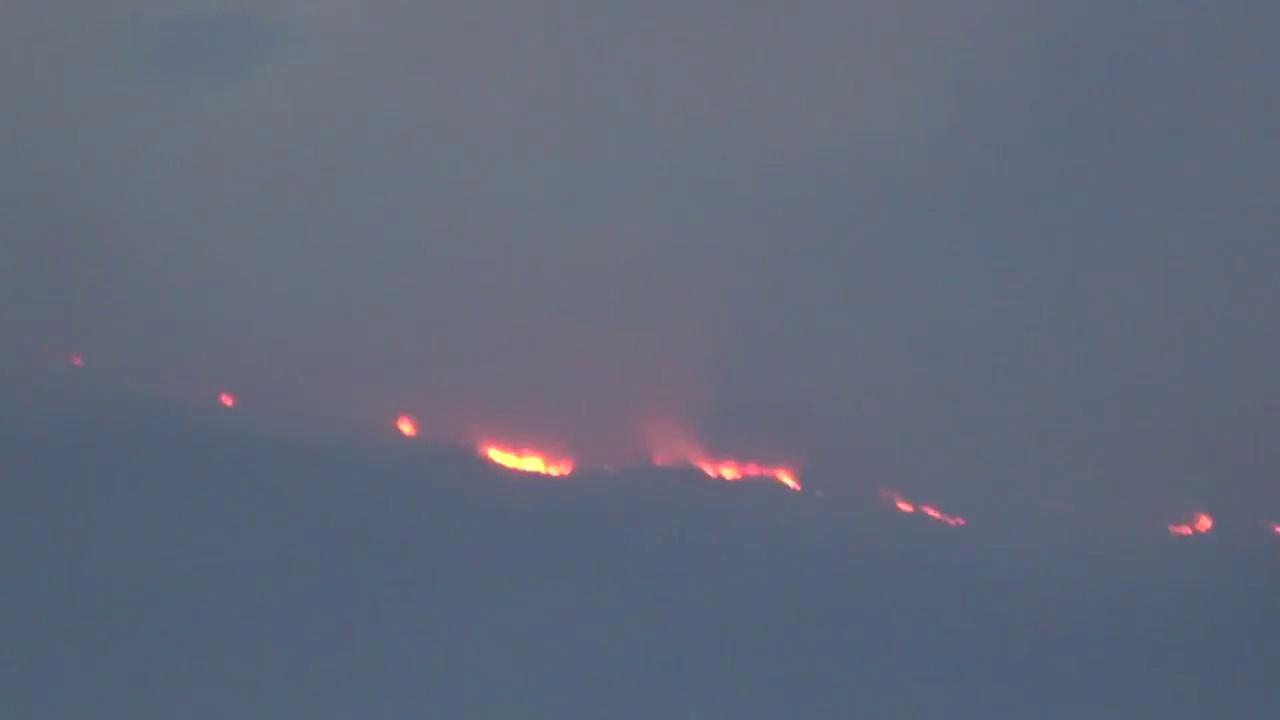fire: (482, 441, 576, 481), (704, 459, 798, 493), (893, 496, 965, 529), (1172, 513, 1212, 536), (394, 410, 417, 439)
